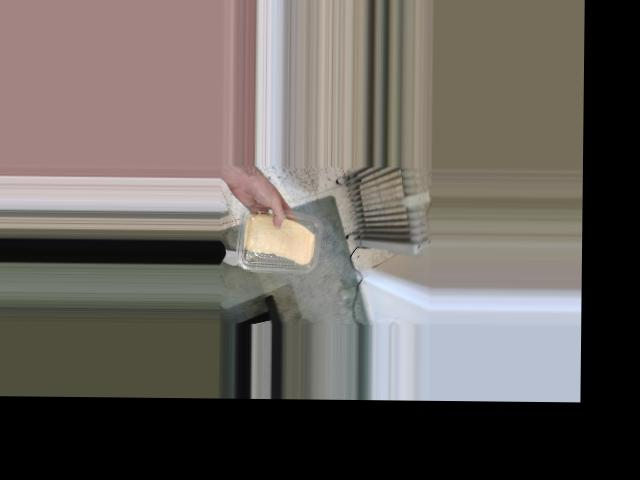cheese: (237, 207, 325, 272)
